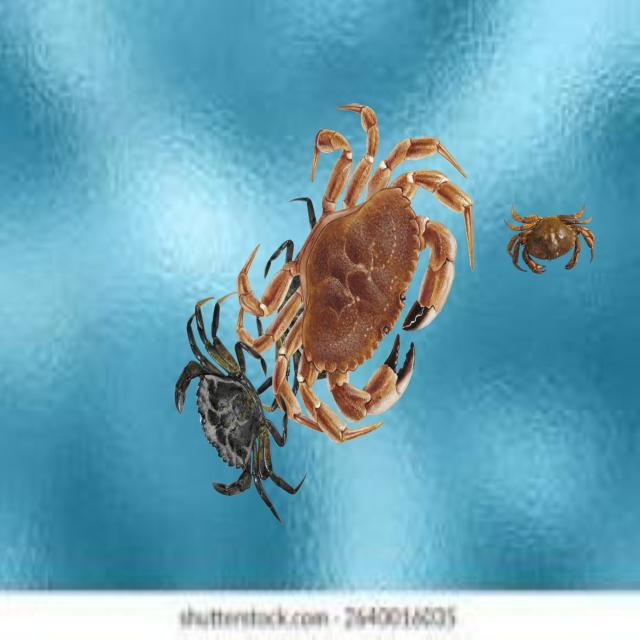European_Green_Crab: (146, 287, 325, 542)
